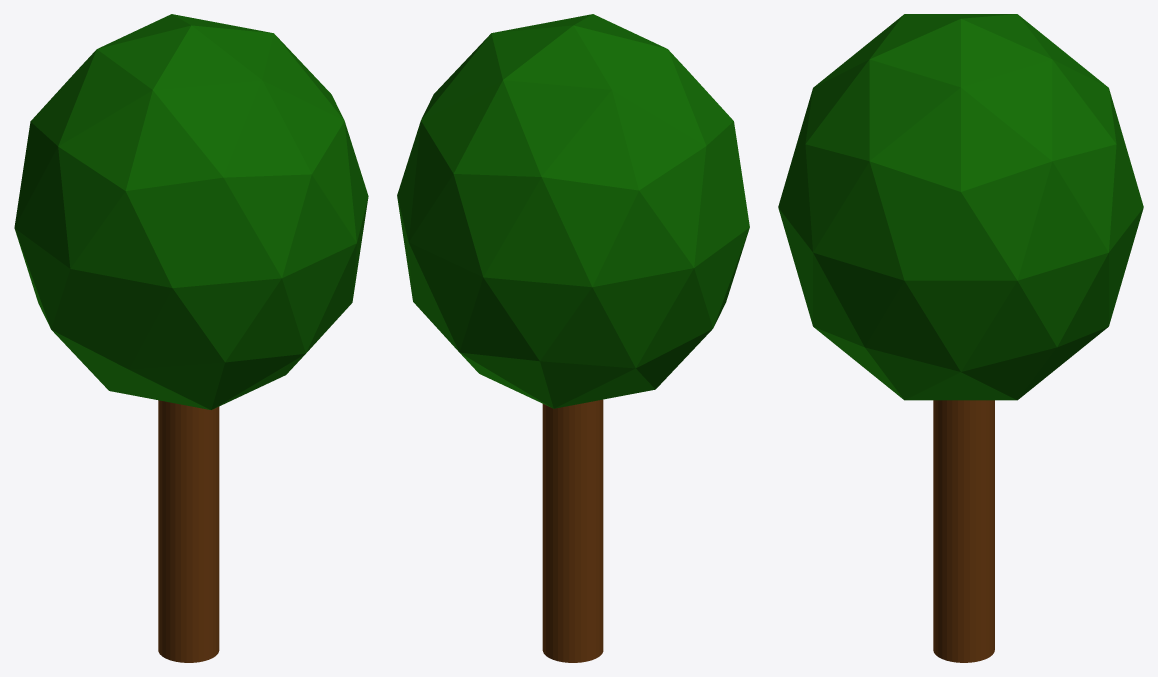
The model's file is tree.gltf.
3 views of the same model, side by side, from view 1: azimuth 30°, elevation 25°; view 2: azimuth 150°, elevation 25°; view 3: azimuth 270°, elevation 25° (orthographic).
Visible parts, largest first — view 1: Icosphere.022, Cylinder.022; view 2: Icosphere.022, Cylinder.022; view 3: Icosphere.022, Cylinder.022.
Boxes of the visible parts, x1,y1,x2,y2 form: Icosphere.022: [14, 14, 368, 409]; Cylinder.022: [158, 400, 219, 662]; Icosphere.022: [397, 14, 749, 408]; Cylinder.022: [542, 399, 603, 662]; Icosphere.022: [778, 14, 1143, 400]; Cylinder.022: [933, 400, 994, 662].
Bounding box in the file's own units: 7.11 × 14.25 × 7.47.
